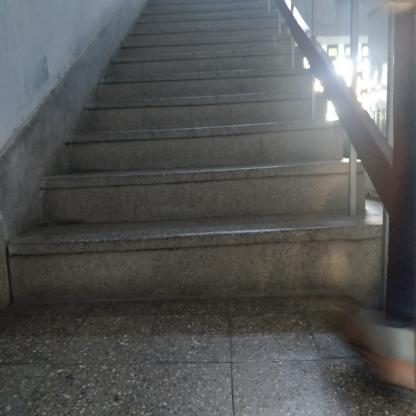stairs: (72, 70, 299, 310)
